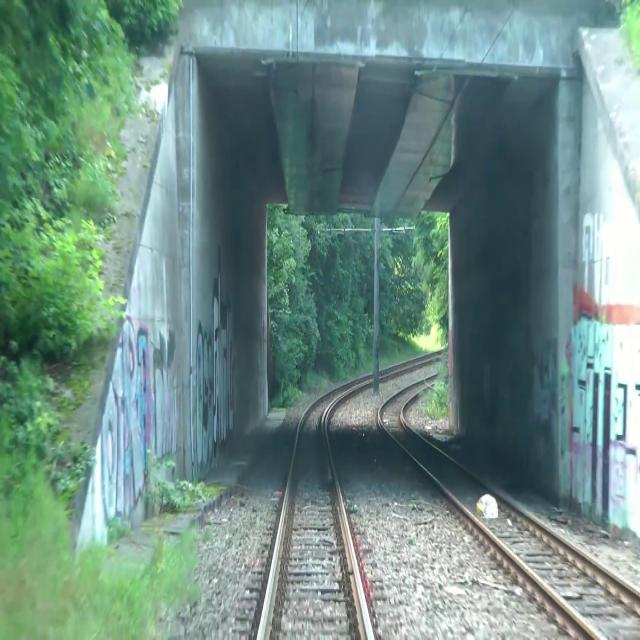rail-track: (381, 375, 640, 639), (262, 391, 368, 639)
